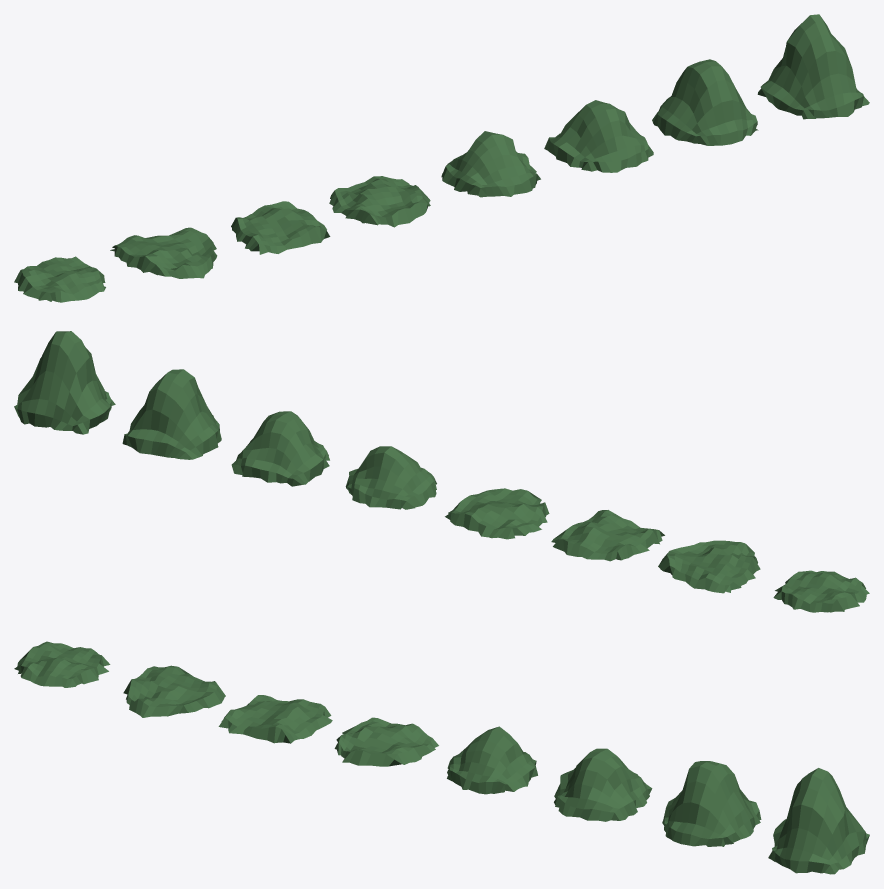
Rendered from S_VineVariations_01.fbx.
The picture shows the model from 3 angles, top to bottom: view 1: azimuth 30°, elevation 25°; view 2: azimuth 150°, elevation 25°; view 3: azimuth 330°, elevation 25°; orthographic projection.
Visible parts, largest first — view 1: Kudzu_Blanket; view 2: Kudzu_Blanket; view 3: Kudzu_Blanket.
Boxes of the visible parts, <box> form: Kudzu_Blanket: <box>14,14,869,302</box>; Kudzu_Blanket: <box>14,331,869,612</box>; Kudzu_Blanket: <box>14,641,869,874</box>.
Bounding box in the file's own units: 15491 × 1440 × 1835.
